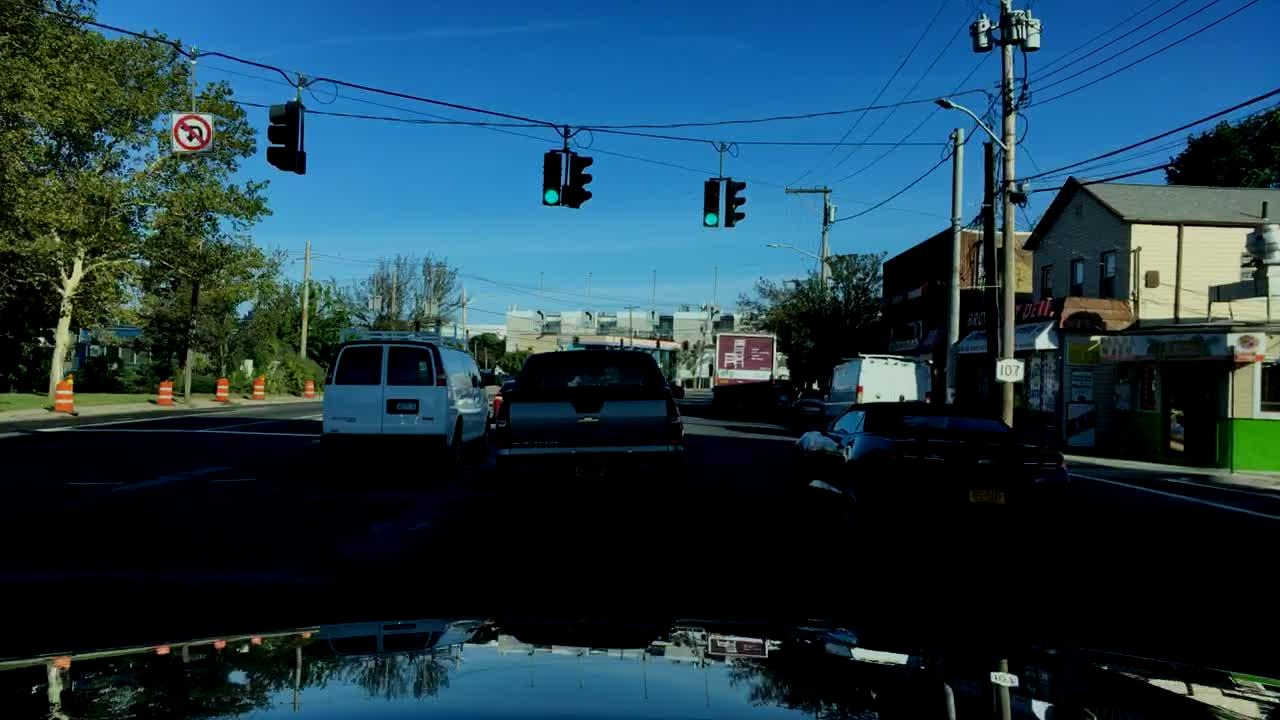chevrolet: (971, 448, 1005, 475), (569, 413, 605, 430)
